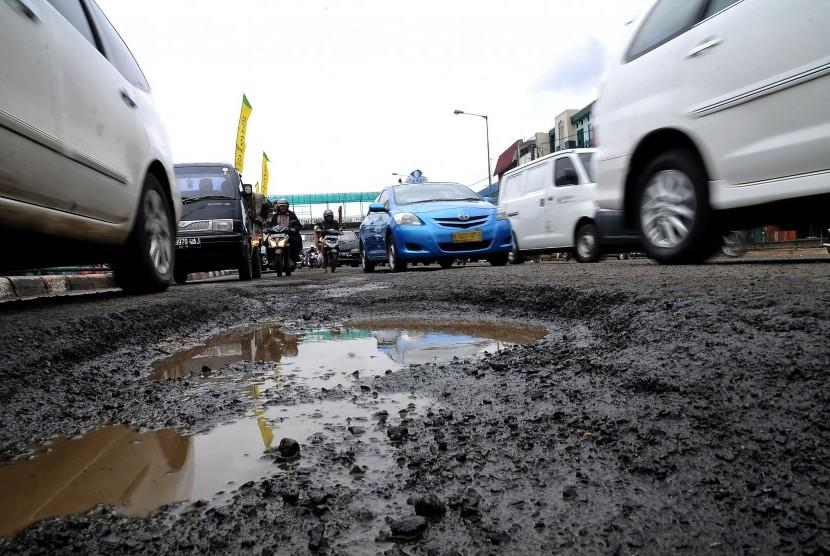Pothole: (0, 277, 671, 556)
